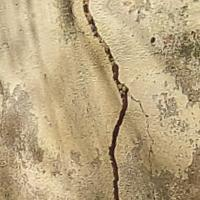crack: (79, 0, 152, 199)
